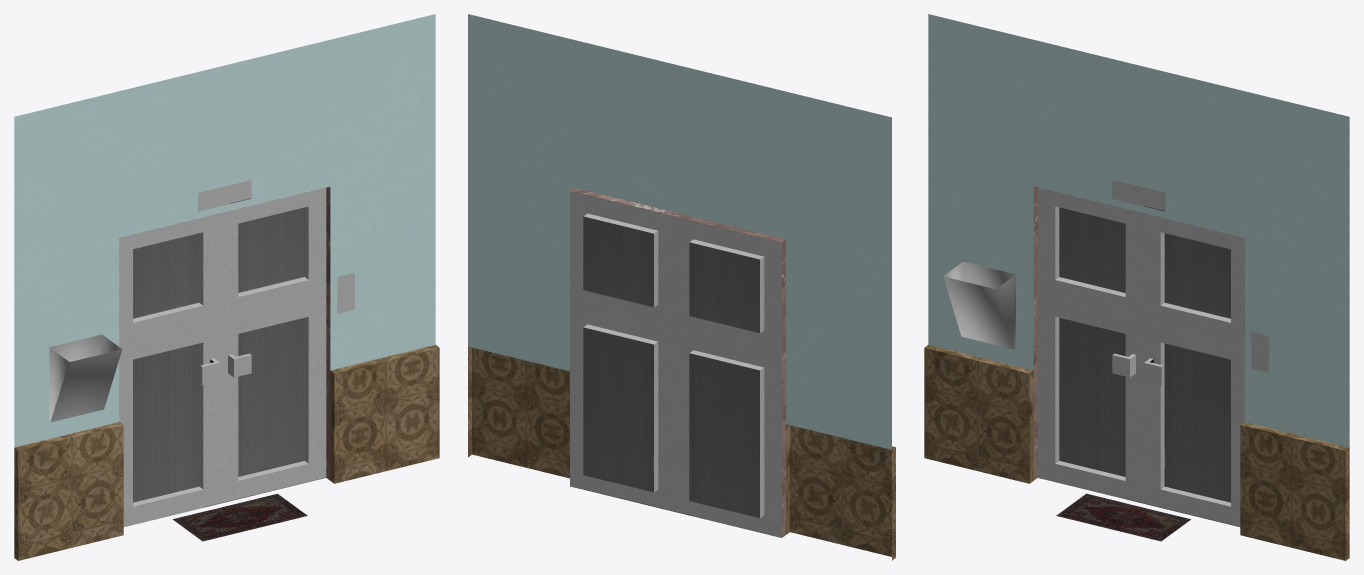
Rendered from Building B Door A.fbx.
The picture shows the model from 3 angles, left to right: view 1: azimuth 30°, elevation 25°; view 2: azimuth 150°, elevation 25°; view 3: azimuth 330°, elevation 25°; orthographic projection.
Parts seen in each view (by area): view 1: Building B Door A (2, Baked); view 2: Building B Door A (2, Baked); view 3: Building B Door A (2, Baked).
Part boxes in pixels (x1,y1,x2,y2): Building B Door A (2, Baked): (14, 14, 439, 560); Building B Door A (2, Baked): (468, 14, 895, 560); Building B Door A (2, Baked): (924, 14, 1349, 560).
Bounding box in the file's own units: 300 × 300 × 47.5.
